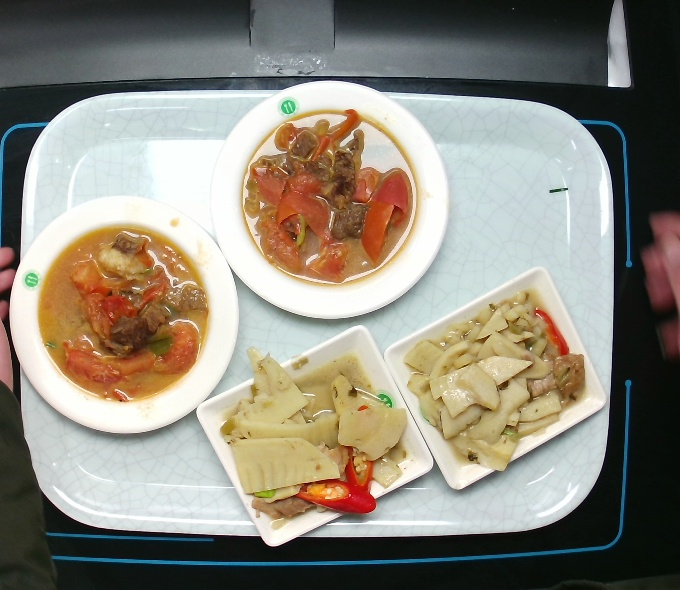wcq-DongSun: (395, 295, 602, 478), (221, 334, 415, 528)
wcq-FanQiwNiuRou: (241, 108, 419, 286), (44, 221, 206, 408)
